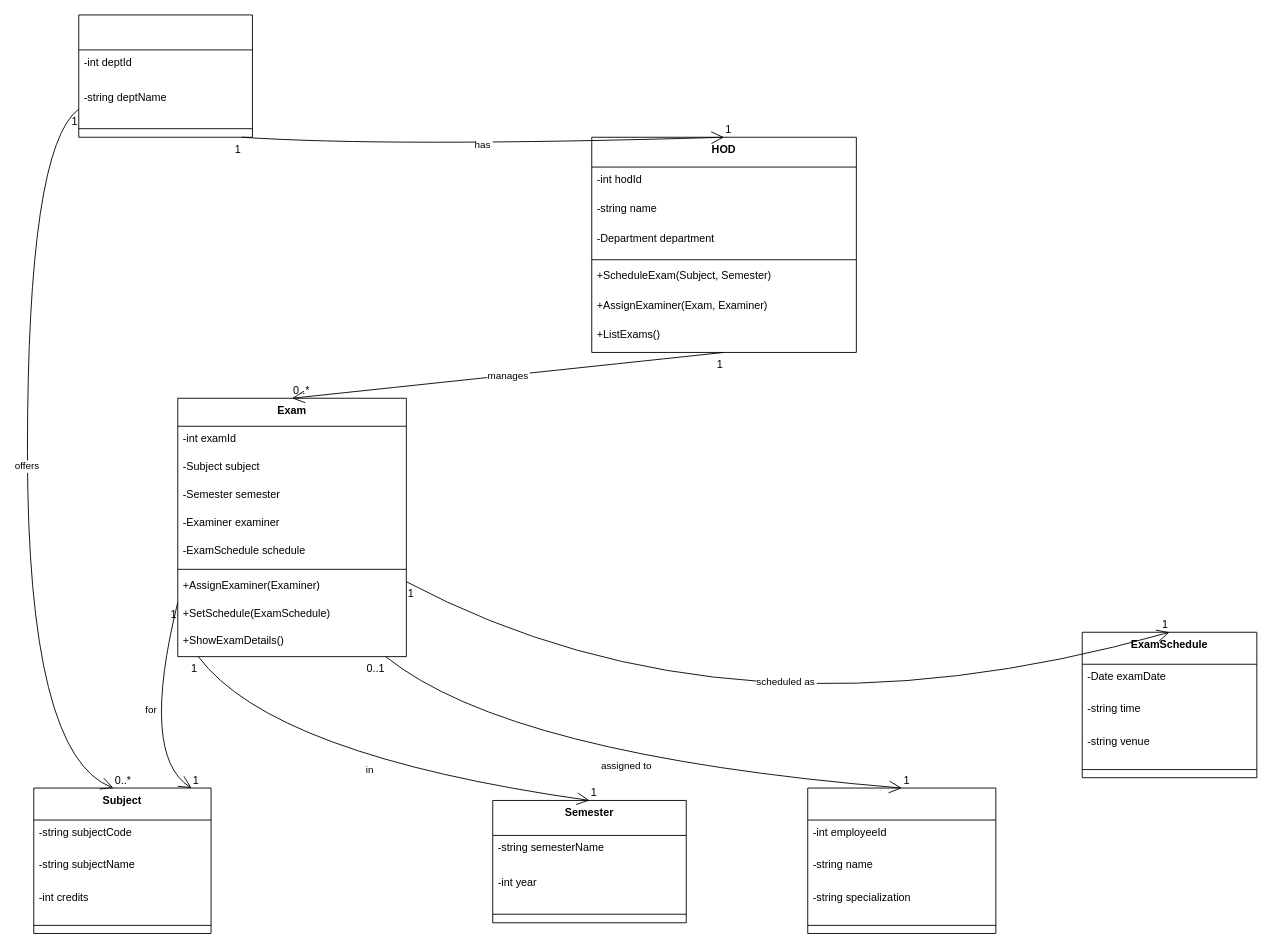
Some shapes in this 1272 by 949 pixel diagram are drawn without their labels. The box of each missing label's shape, as (x1, y1, x2, y2) in pixels:
Department: (78, 14, 252, 137)
Examiner: (807, 787, 996, 933)
